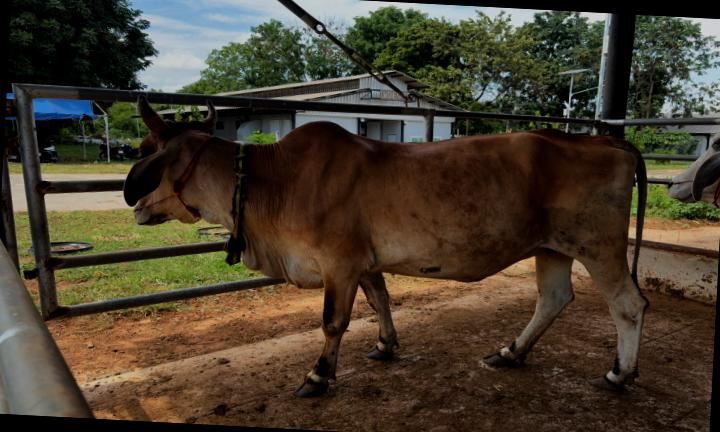Brahman: (123, 95, 647, 396)
